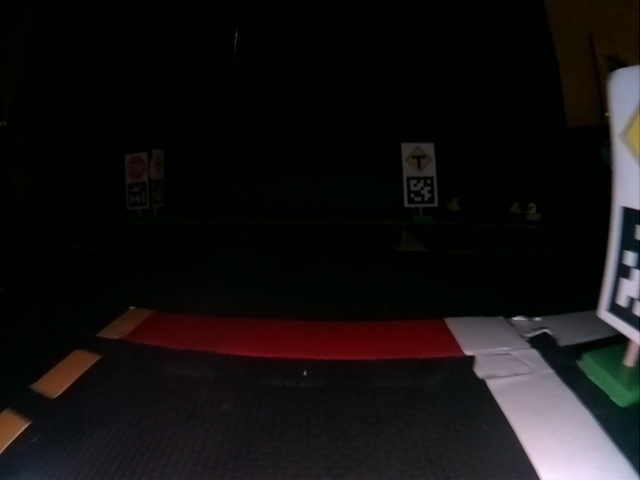Duckie: (526, 203, 539, 222), (449, 198, 459, 208)
Intersection sign: (404, 146, 434, 173)
QR code: (608, 205, 640, 340), (404, 175, 437, 206), (127, 181, 148, 209)
Stop sign: (125, 154, 144, 176)
